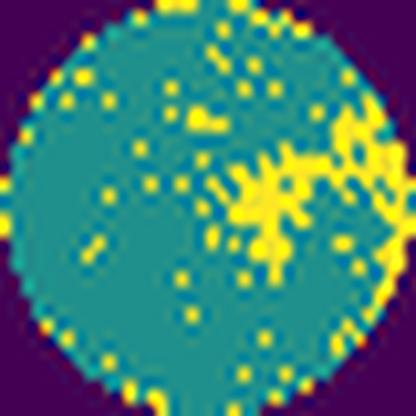Edge-Loc: (216, 91, 415, 319)
